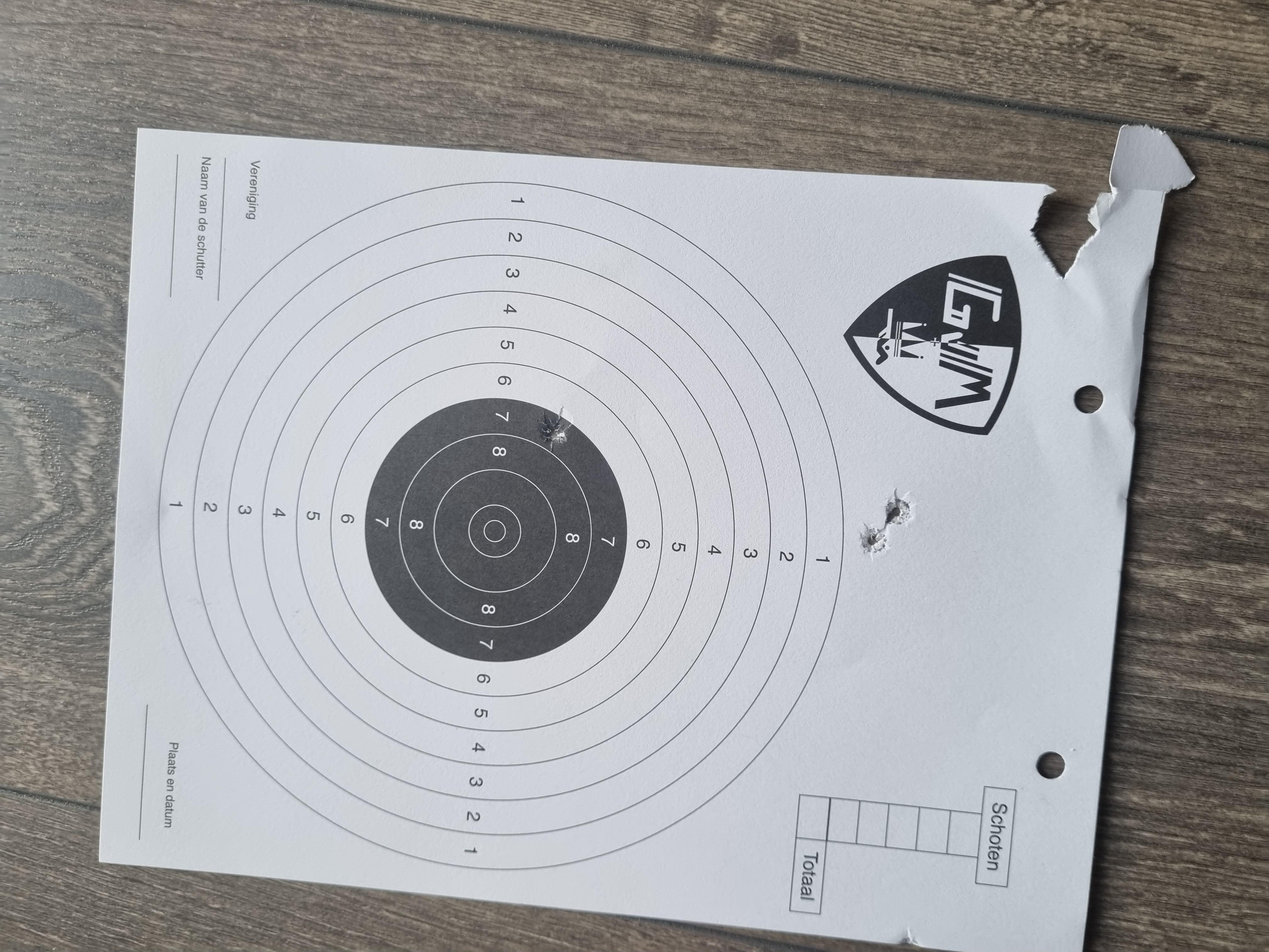hole: (666, 403, 728, 430), (568, 663, 617, 683), (529, 642, 568, 666)
